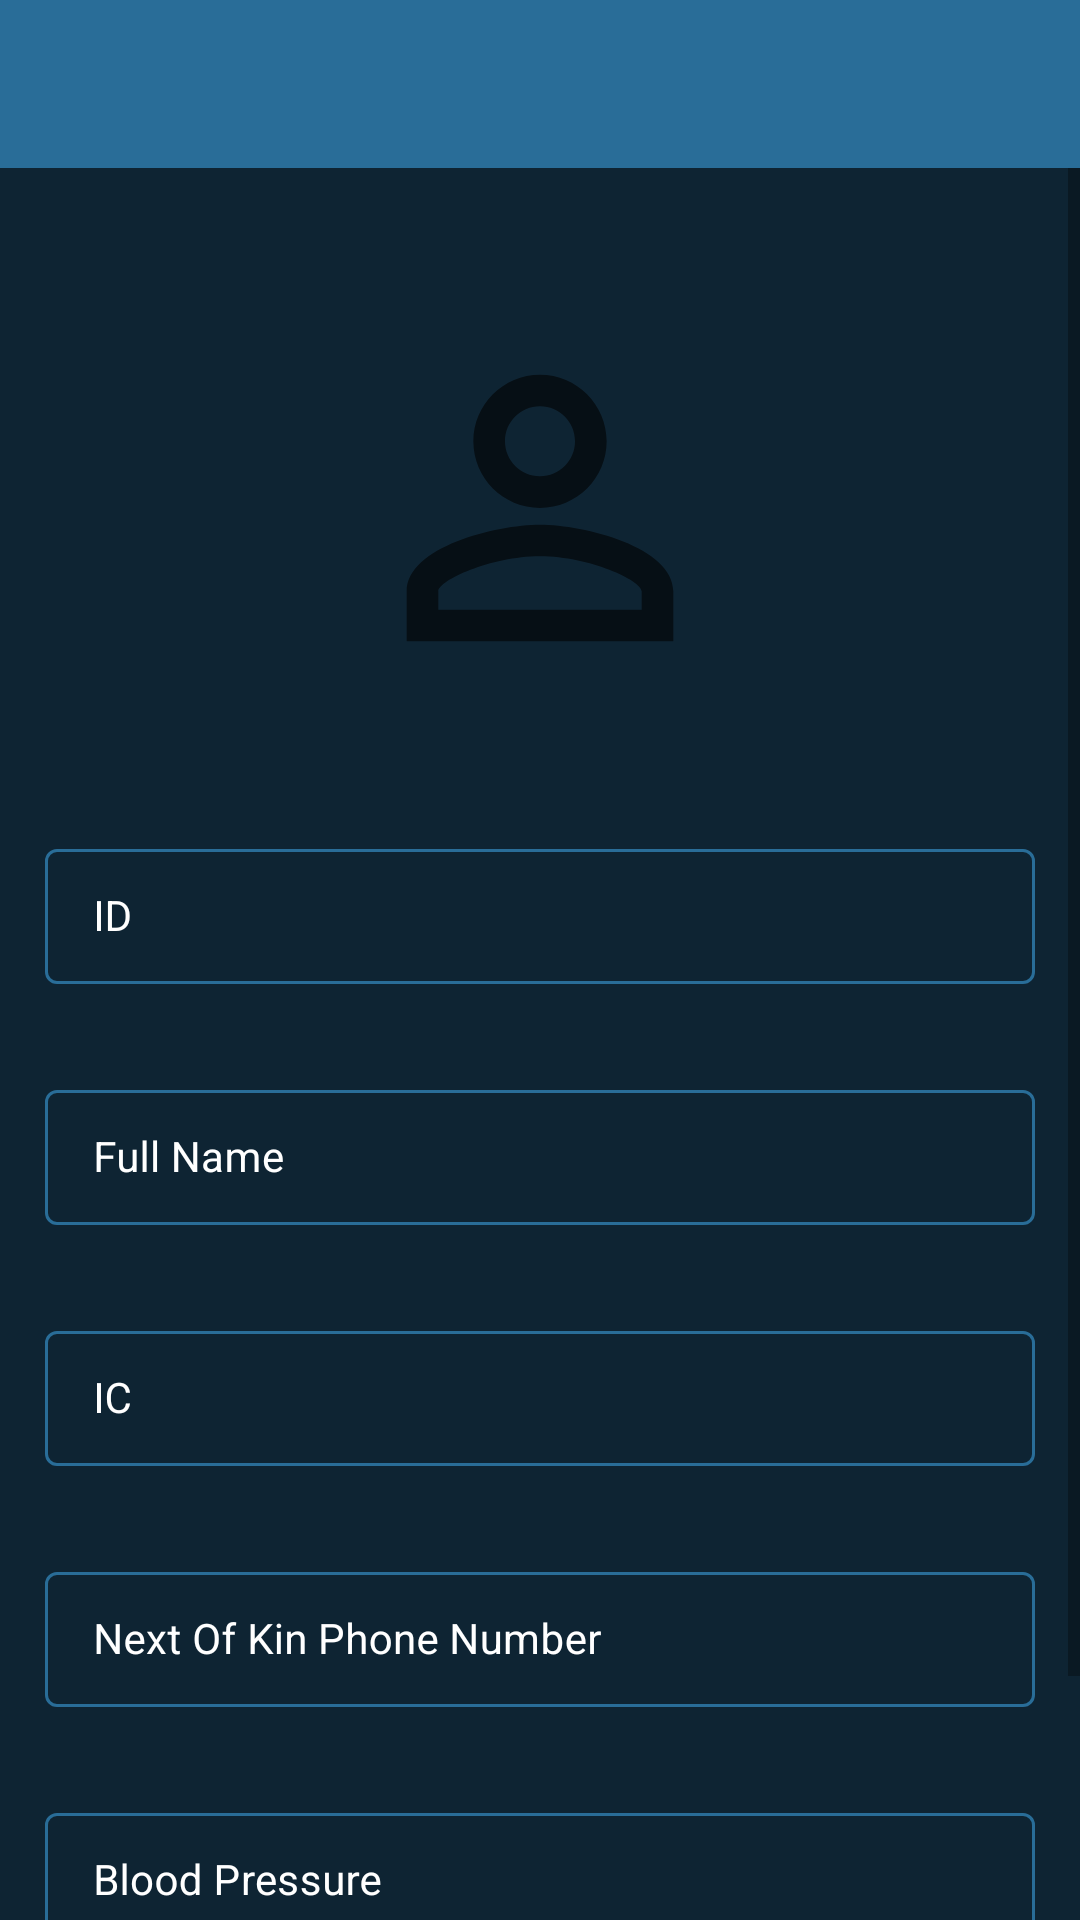

Where to tap for icons on this 1080px x 1920px app screen, as point (x, y):
person: point (540, 508)
